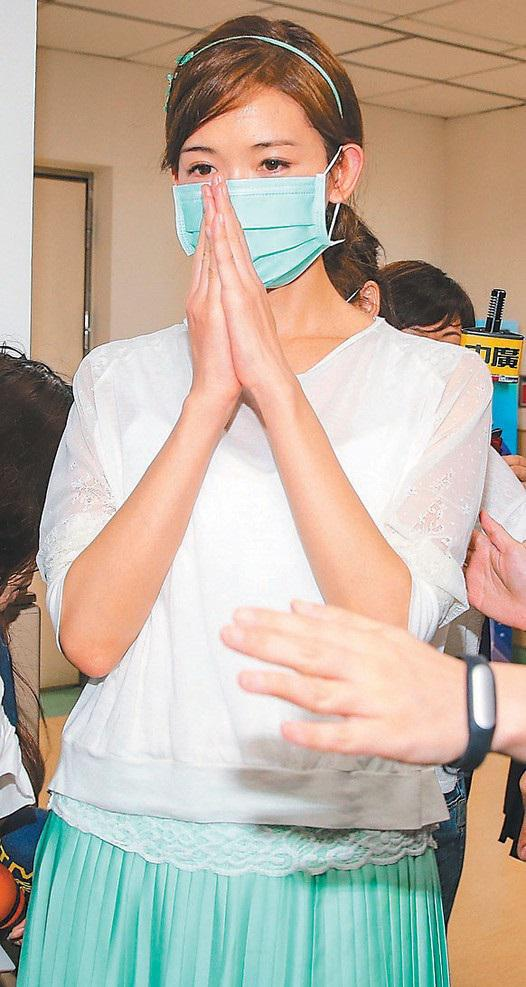OK: (165, 140, 322, 297)
